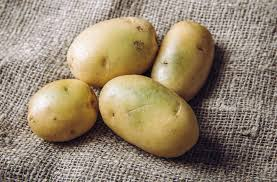potato: (99, 71, 200, 153), (63, 16, 155, 81), (27, 75, 102, 138), (155, 19, 216, 95)
